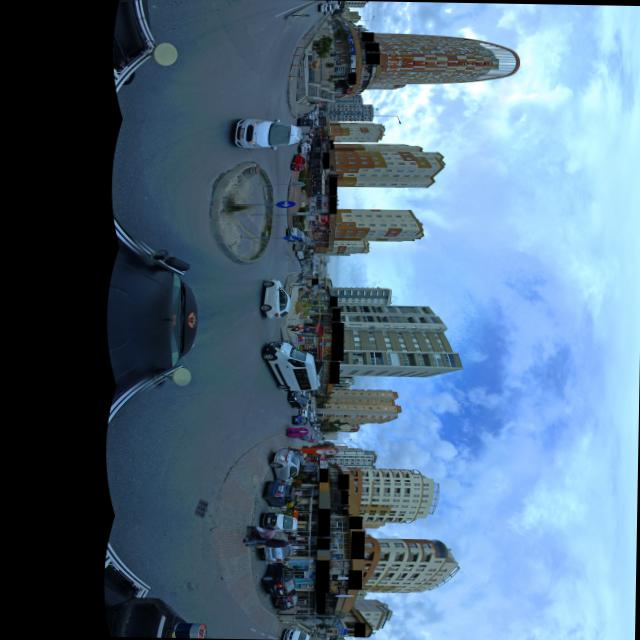SignStore: (330, 322, 343, 360), (314, 559, 328, 593), (316, 508, 329, 537), (350, 531, 363, 559), (347, 570, 361, 589), (328, 362, 338, 383), (314, 593, 324, 613), (316, 537, 329, 550), (348, 516, 361, 529), (353, 622, 364, 637), (328, 176, 336, 196), (365, 52, 378, 64), (337, 474, 347, 489), (364, 42, 378, 52), (318, 468, 327, 482), (360, 32, 372, 42), (321, 152, 328, 169), (328, 196, 335, 213), (331, 308, 339, 321), (340, 490, 347, 504), (347, 73, 355, 84), (328, 296, 336, 307), (337, 628, 346, 635), (310, 278, 317, 284), (340, 509, 345, 514), (329, 144, 333, 149), (328, 140, 332, 143)
